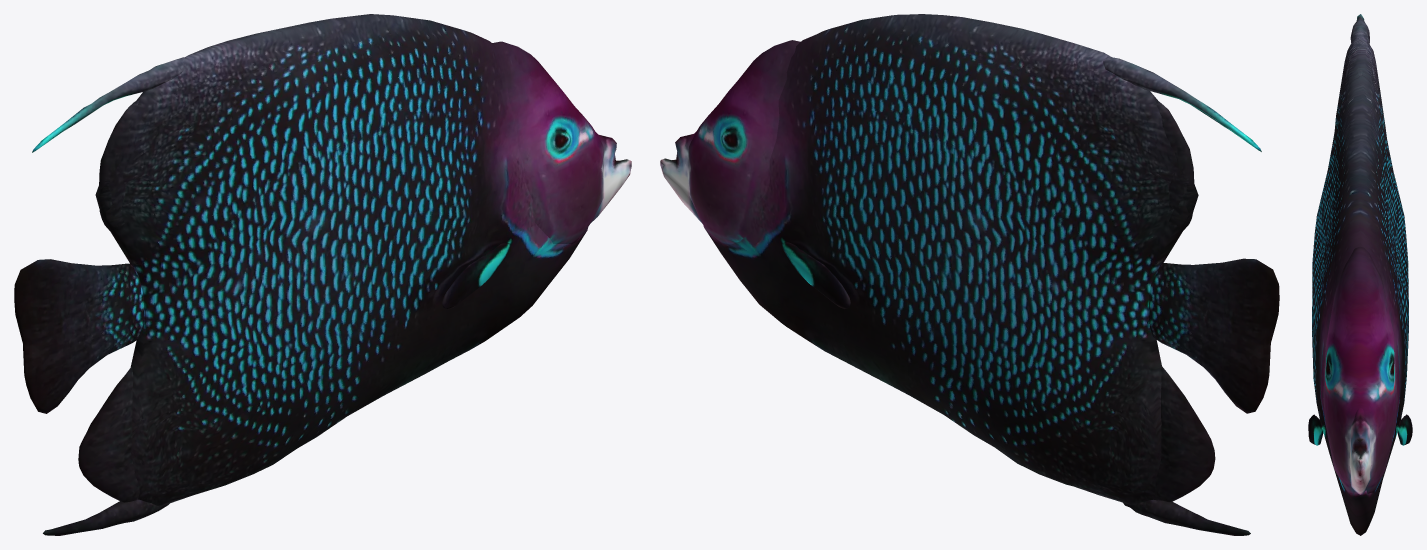
File: coralfish.glb
3 renders of one model, left to right at view 1: azimuth 30°, elevation 25°; view 2: azimuth 150°, elevation 25°; view 3: azimuth 270°, elevation 25°, orthographic.
Parts seen in each view (by area): view 1: model_texture_0.001; view 2: model_texture_0.001; view 3: model_texture_0.001.
Boxes of the visible parts, x1,y1,x2,y2 form: model_texture_0.001: (14,14,631,535); model_texture_0.001: (660,14,1279,535); model_texture_0.001: (1308,14,1412,535).
Size of the model in its own units: 1 by 0.7057 by 0.1481.
1 material, 1 textured.
